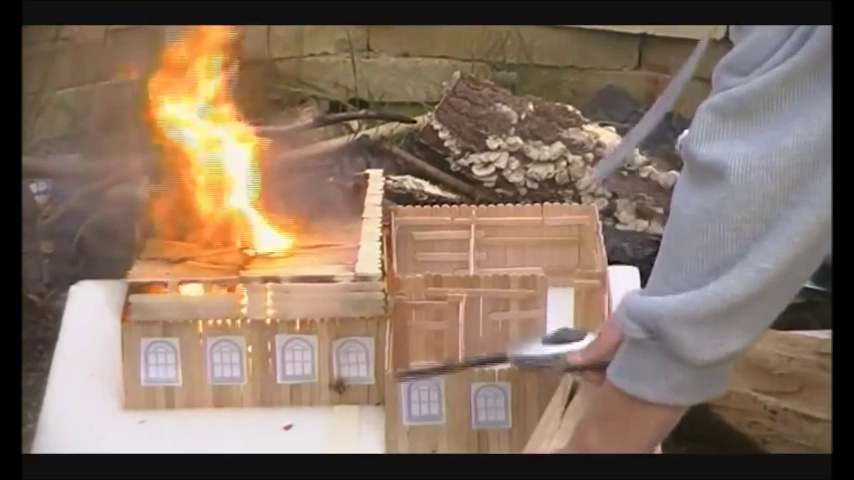fire: (143, 26, 293, 256)
